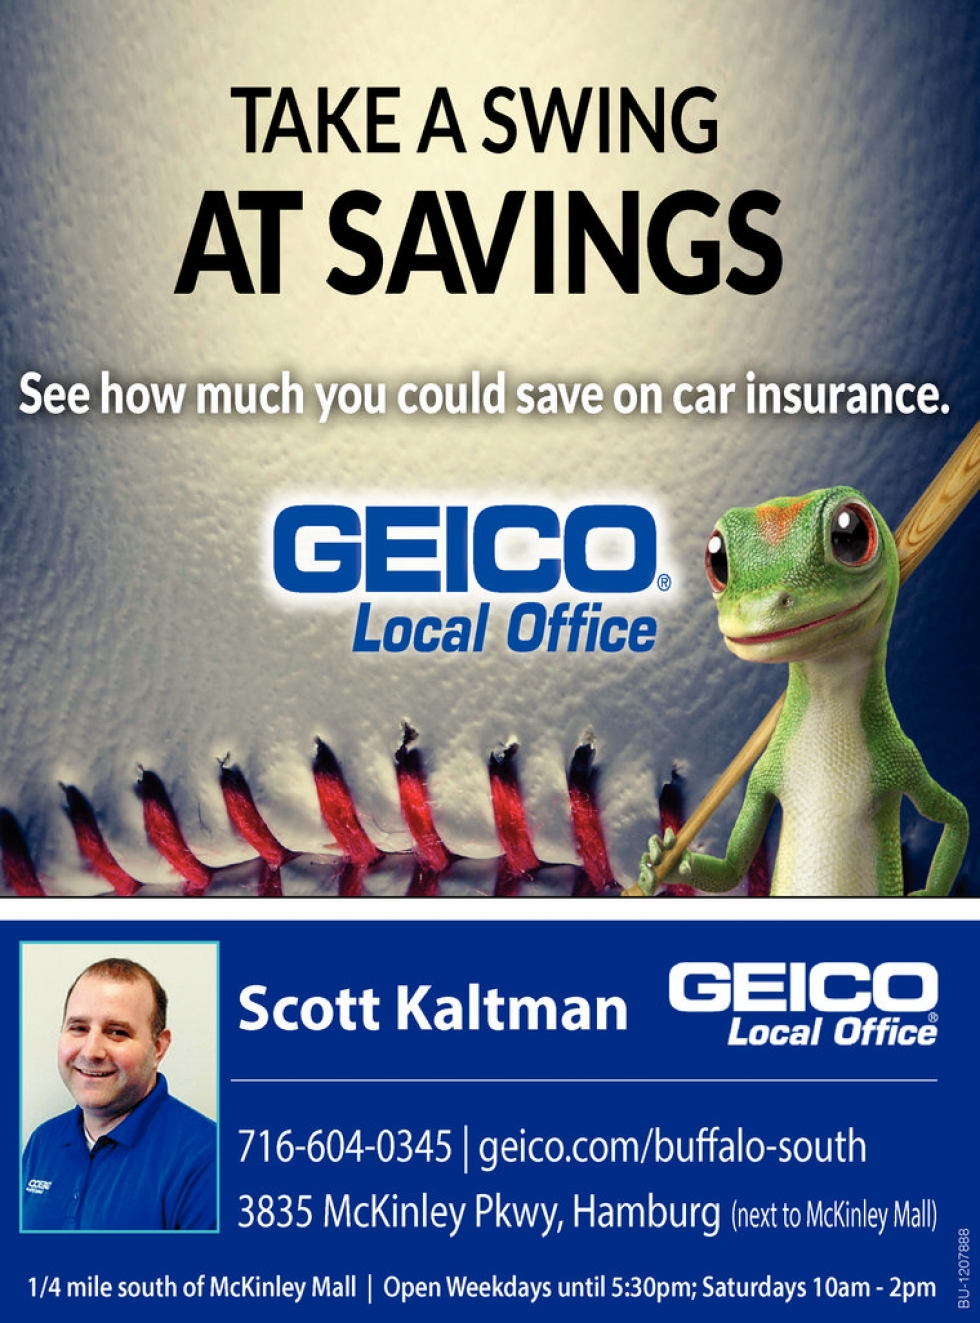Geico: (267, 491, 690, 604)
